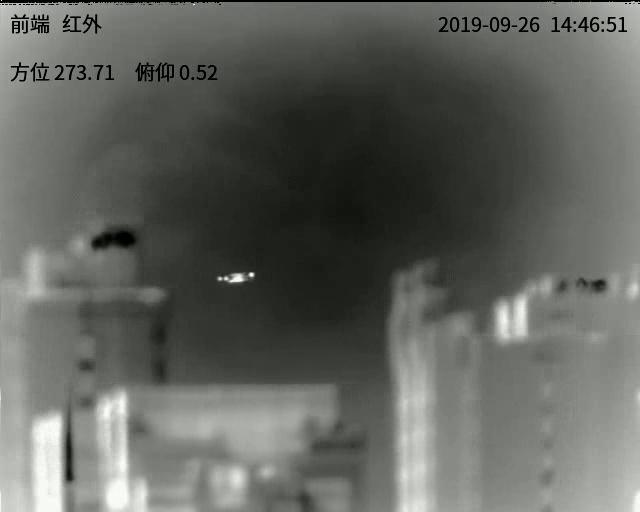DRONE: (215, 270, 256, 284)
